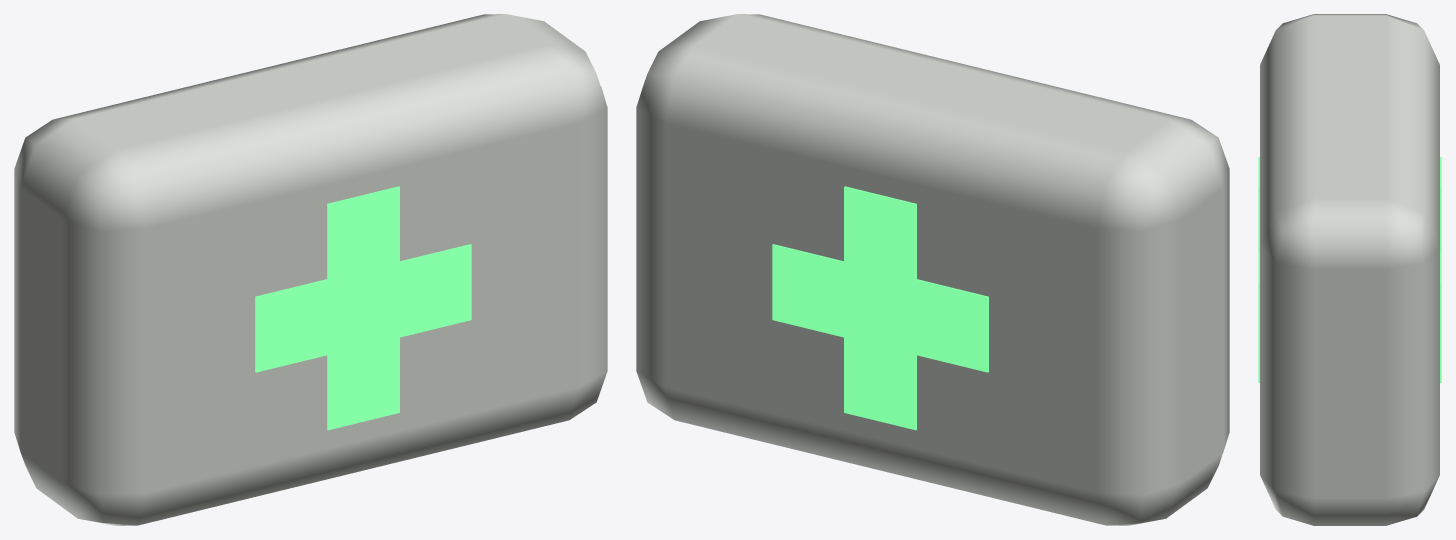
The model's file is l_medkit.glb.
3 renders of one model, left to right at view 1: azimuth 30°, elevation 25°; view 2: azimuth 150°, elevation 25°; view 3: azimuth 270°, elevation 25°, orthographic. The views are drawn at different scales.
Visible parts, largest first — view 1: medkit; view 2: medkit; view 3: medkit.
Boxes of the visible parts, <box> form: medkit: <box>14,14,607,525</box>; medkit: <box>636,14,1229,525</box>; medkit: <box>1258,14,1441,525</box>.
Bounding box in the file's own units: 0.3 × 0.2 × 0.102.
